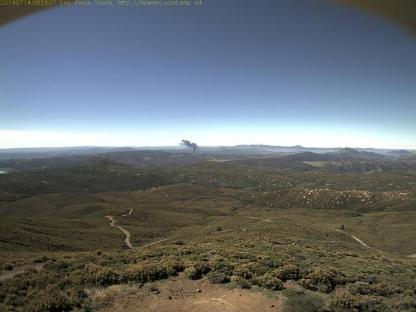smoke: (177, 137, 199, 155)
